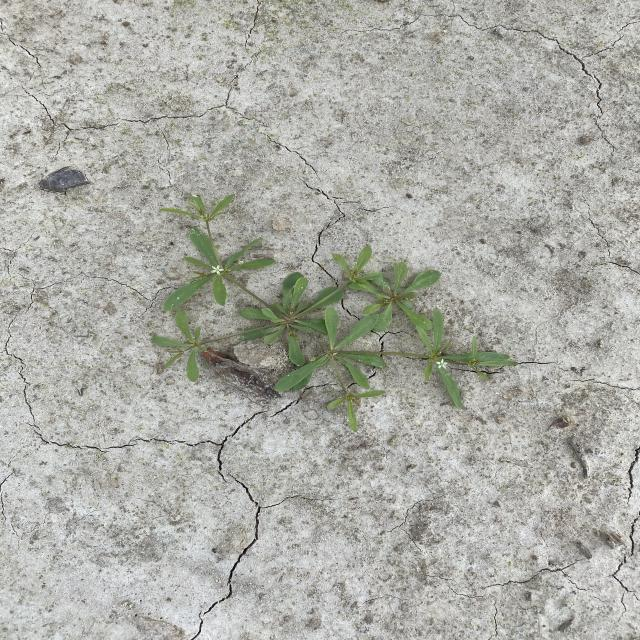Carpetweed: (147, 191, 520, 433)
